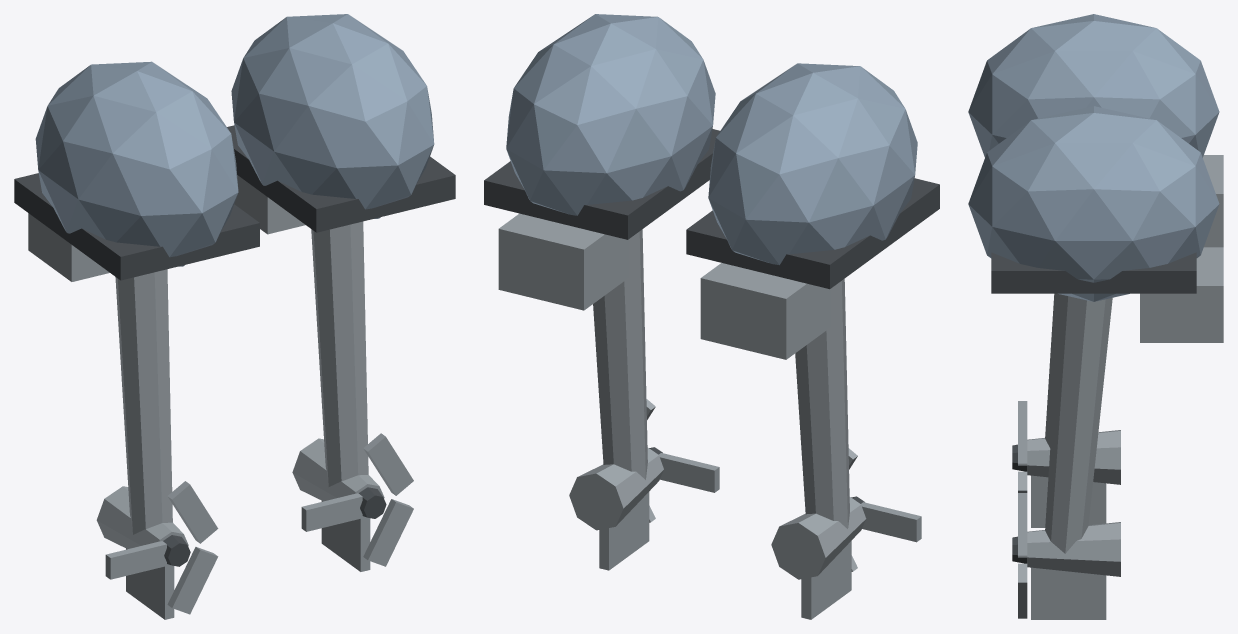
File: BigMotor.fbx
The picture shows the model from 3 angles, left to right: view 1: azimuth 30°, elevation 25°; view 2: azimuth 150°, elevation 25°; view 3: azimuth 270°, elevation 25°; orthographic projection. The views are drawn at different scales.
Parts seen in each view (by area): view 1: EngineCover, EngineCover.001, Shaft, Shaft.001, CoverBand.001, CoverBand, TransomClamp.001, GearHousing.001, GearHousing, Skeg, Skeg.001, TransomClamp (+8 smaller); view 2: EngineCover.001, EngineCover, Shaft.001, Shaft, TransomClamp.001, TransomClamp, CoverBand.001, CoverBand, GearHousing, GearHousing.001, Skeg, Skeg.001 (+2 smaller); view 3: EngineCover, EngineCover.001, Shaft, TransomClamp, CoverBand, Skeg, GearHousing, GearHousing.001, Skeg.001, TransomClamp.001, Shaft.001, Blade.002 (+2 smaller).
Part boxes in pixels (x1=…): EngineCover: x1=231, y1=14, x2=434, y2=218; EngineCover.001: x1=35, y1=61, x2=238, y2=266; Shaft: x1=311, y1=221, x2=368, y2=486; Shaft.001: x1=115, y1=269, x2=172, y2=534; CoverBand.001: x1=14, y1=173, x2=259, y2=280; CoverBand: x1=227, y1=125, x2=455, y2=232; TransomClamp.001: x1=28, y1=213, x2=109, y2=281; GearHousing.001: x1=96, y1=486, x2=188, y2=567; GearHousing: x1=292, y1=438, x2=384, y2=519; Skeg: x1=321, y1=501, x2=370, y2=571; Skeg.001: x1=126, y1=548, x2=174, y2=619; TransomClamp: x1=234, y1=175, x2=305, y2=234; EngineCover.001: x1=708, y1=63, x2=917, y2=265; EngineCover: x1=506, y1=14, x2=715, y2=215; Shaft.001: x1=795, y1=279, x2=849, y2=528; Shaft: x1=593, y1=229, x2=647, y2=479; TransomClamp.001: x1=700, y1=263, x2=830, y2=359; TransomClamp: x1=498, y1=213, x2=628, y2=310; CoverBand.001: x1=686, y1=178, x2=939, y2=289; CoverBand: x1=484, y1=129, x2=719, y2=239; GearHousing: x1=569, y1=447, x2=663, y2=530; GearHousing.001: x1=771, y1=497, x2=866, y2=579; Skeg: x1=599, y1=492, x2=649, y2=570; Skeg.001: x1=801, y1=541, x2=851, y2=619; EngineCover: x1=968, y1=106, x2=1219, y2=301; EngineCover.001: x1=968, y1=14, x2=1219, y2=157; Shaft: x1=1045, y1=294, x2=1112, y2=553; TransomClamp: x1=1140, y1=247, x2=1223, y2=342; CoverBand: x1=991, y1=252, x2=1196, y2=293; Skeg: x1=1031, y1=567, x2=1106, y2=619; GearHousing: x1=1027, y1=522, x2=1120, y2=576; GearHousing.001: x1=1027, y1=430, x2=1120, y2=484; Skeg.001: x1=1031, y1=475, x2=1106, y2=527; TransomClamp.001: x1=1203, y1=155, x2=1223, y2=247; Shaft.001: x1=1045, y1=293, x2=1059, y2=447; Blade.002: x1=1018, y1=493, x2=1027, y2=557.
Size of the model in its own units: 0.9385 by 1.33 by 0.61.
